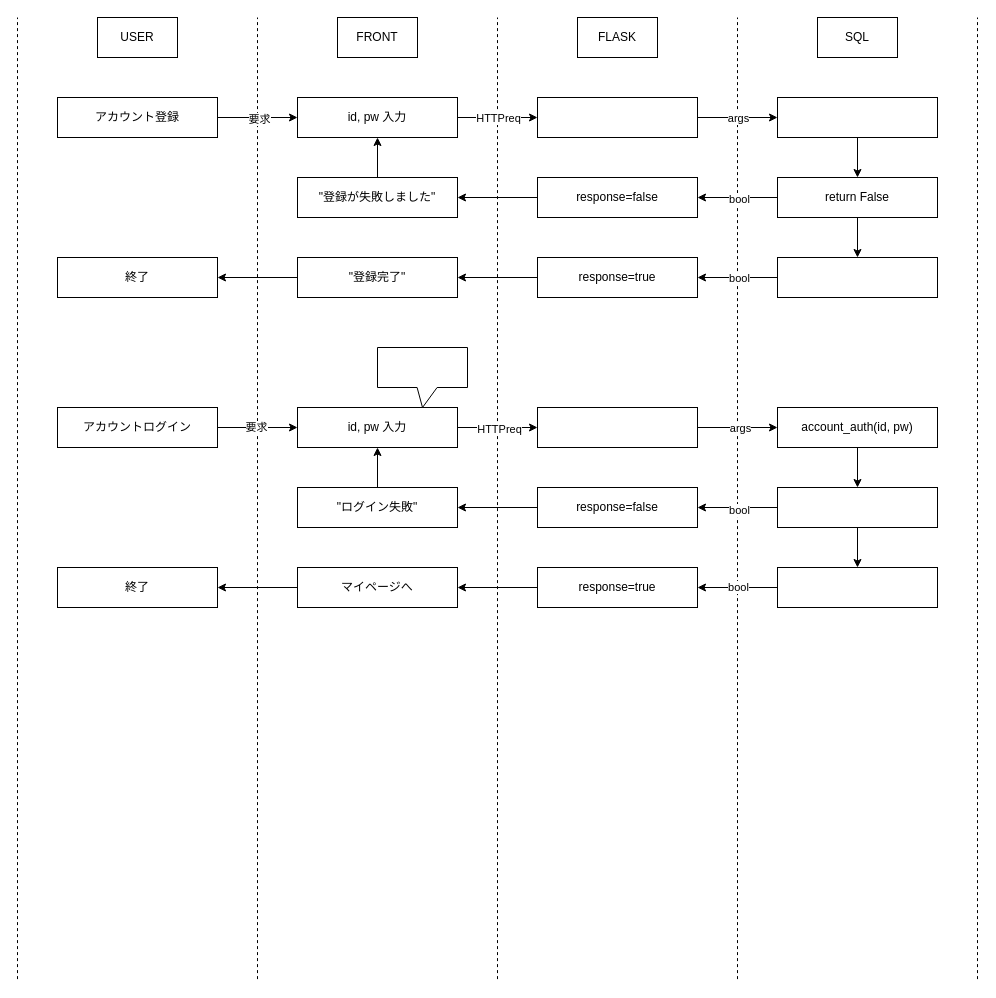
Some shapes in this 996 by 998 pixel diagram are drawn without their labels. The shapes that lost their labels are listed below. From the top down, each one's centre as x and y in pixels, then its label:
At [617,117]: "req=REGISTAR, id, pw".
At [857,117]: "account_create(id, pw)".
At [857,277]: "return True".
At [422,377]: "暗号化".
At [617,427]: "req=LOGIN, id, pw".
At [857,507]: "失敗したらFalse".
At [857,587]: "成功したらTrue".
